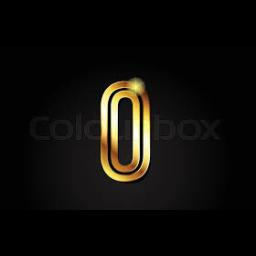o: (96, 74, 154, 186)
